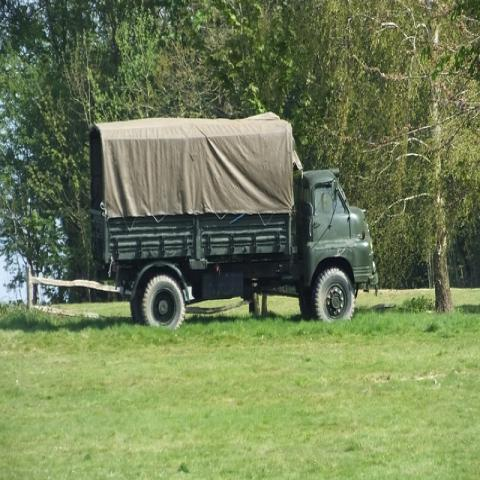truck: (89, 113, 377, 333)
